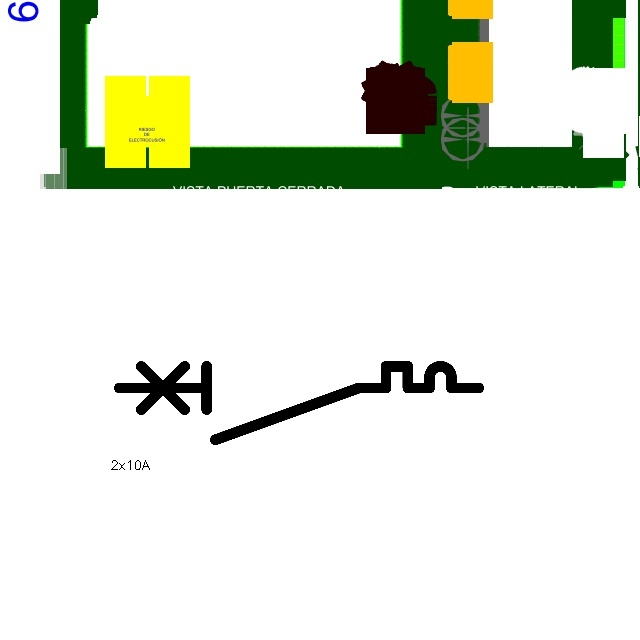interruptor_termomagnetico: (110, 357, 488, 449)
